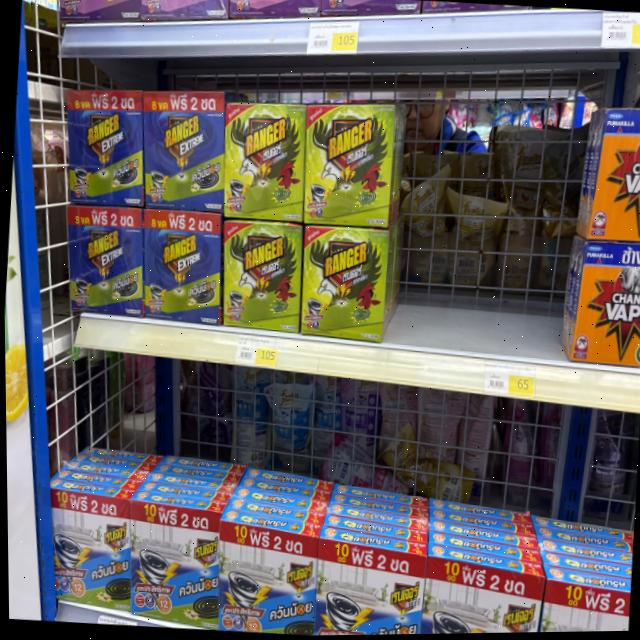empty_shelf: (388, 95, 582, 359)
